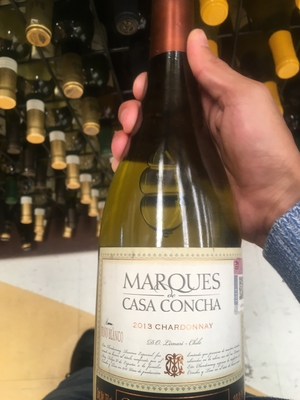marques de casa concha chardonnay: (82, 12, 248, 400)
